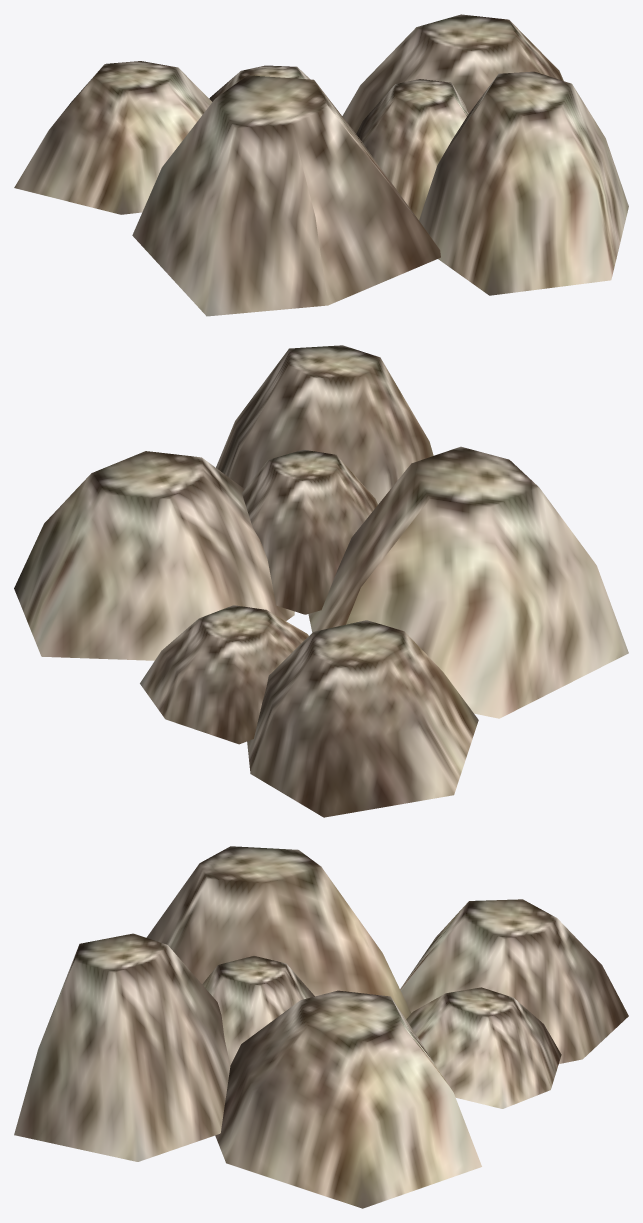
Rendered from pir_m_prp_dvj_barnacleGroup_b.fbx.
The picture shows the model from 3 angles, top to bottom: view 1: azimuth 30°, elevation 25°; view 2: azimuth 150°, elevation 25°; view 3: azimuth 270°, elevation 25°; orthographic projection. The views are drawn at different scales.
Visible parts, largest first — view 1: barnacle, barnacle3, barnacle6, barnacle1, barnacle7, barnacle4; view 2: barnacle, barnacle1, barnacle6, barnacle3, barnacle7, barnacle4; view 3: barnacle1, barnacle3, barnacle, barnacle6, barnacle4, barnacle7.
Boxes of the visible parts, bbox=[...] form: barnacle: bbox=[132, 75, 440, 316]; barnacle3: bbox=[419, 71, 628, 295]; barnacle6: bbox=[14, 61, 212, 214]; barnacle1: bbox=[342, 14, 563, 133]; barnacle7: bbox=[356, 79, 468, 219]; barnacle4: bbox=[209, 65, 309, 101]; barnacle: bbox=[308, 446, 628, 718]; barnacle1: bbox=[14, 451, 294, 660]; barnacle6: bbox=[247, 620, 478, 817]; barnacle3: bbox=[216, 345, 433, 504]; barnacle7: bbox=[242, 449, 377, 614]; barnacle4: bbox=[140, 605, 308, 744]; barnacle1: bbox=[215, 990, 481, 1208]; barnacle3: bbox=[14, 933, 230, 1161]; barnacle: bbox=[146, 846, 411, 1019]; barnacle6: bbox=[400, 899, 628, 1063]; barnacle4: bbox=[406, 987, 561, 1108]; barnacle7: bbox=[202, 956, 314, 1064].
Bounding box in the file's own units: 128 × 45.35 × 134.
Materials: 1 (1 with a texture image).
